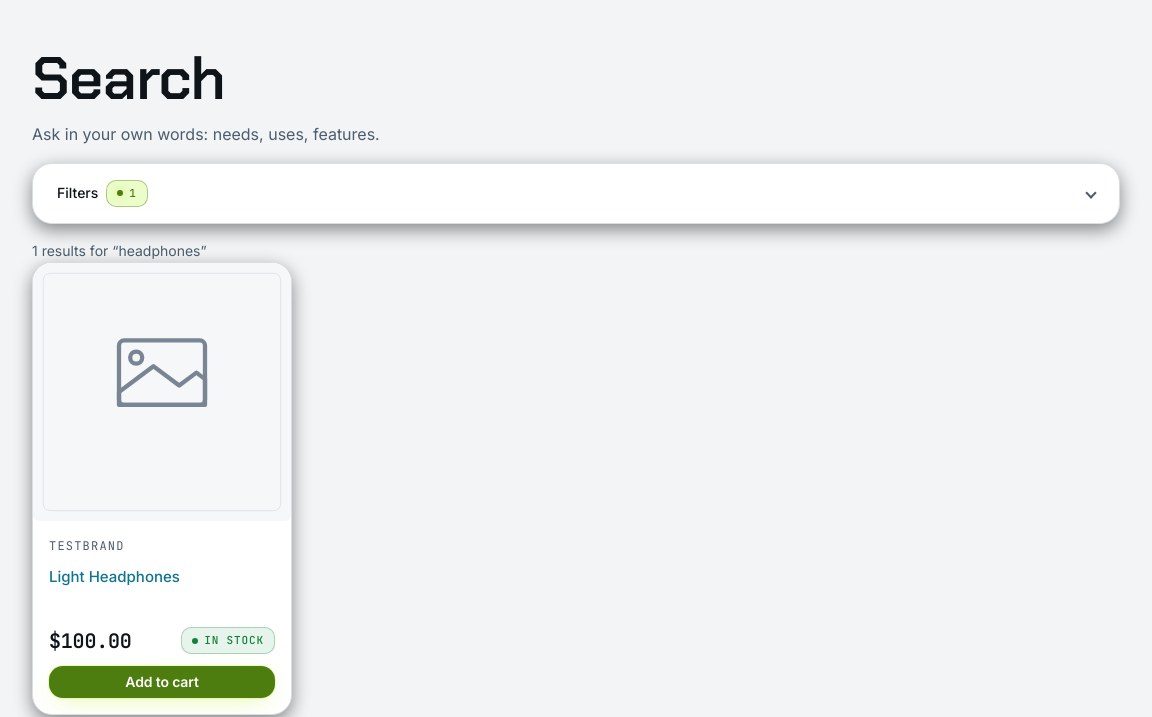
Test: SearchView › collapses filters in a disclosure with an active-filter badge
Expected: the field labelled "Max price" is not shown
Click the button "Filters 1".
click(78, 193)  # box [33,164,1119,223]
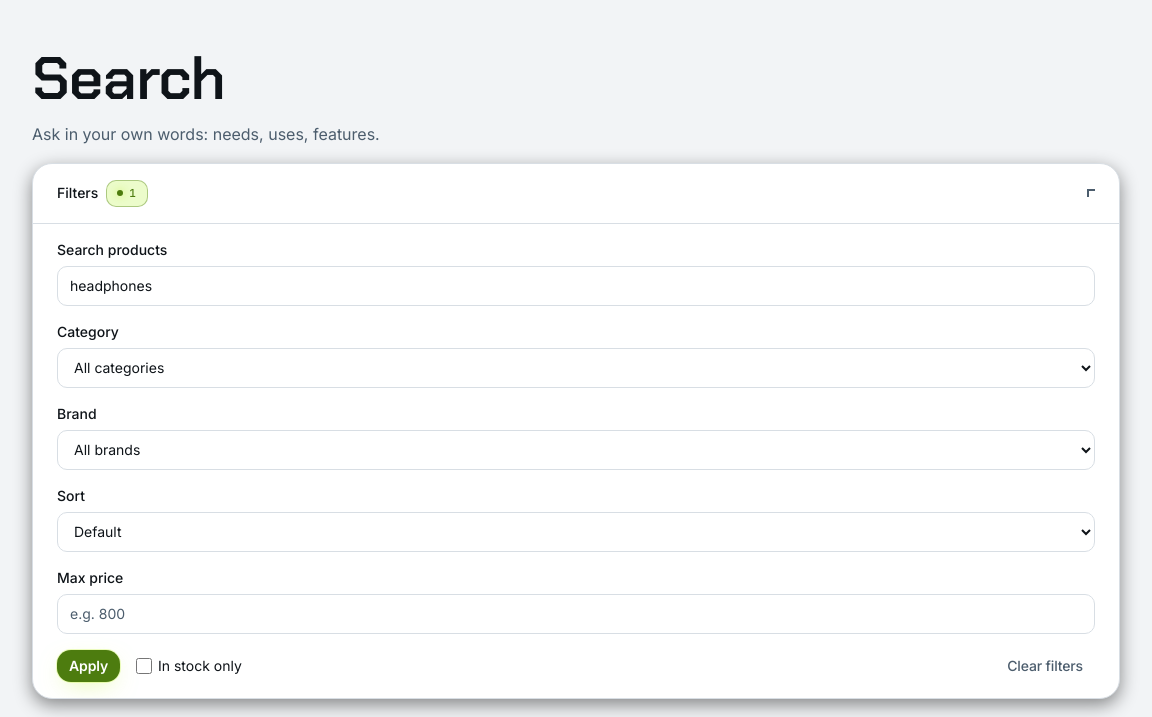
Result: the button "Filters 1" is expanded at [33,164,1119,223]
Result: the field labelled "Max price" is shown at [57,594,1095,634]
